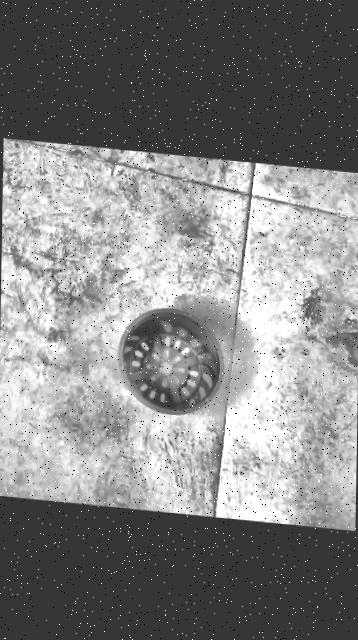pot: (117, 304, 222, 420)
